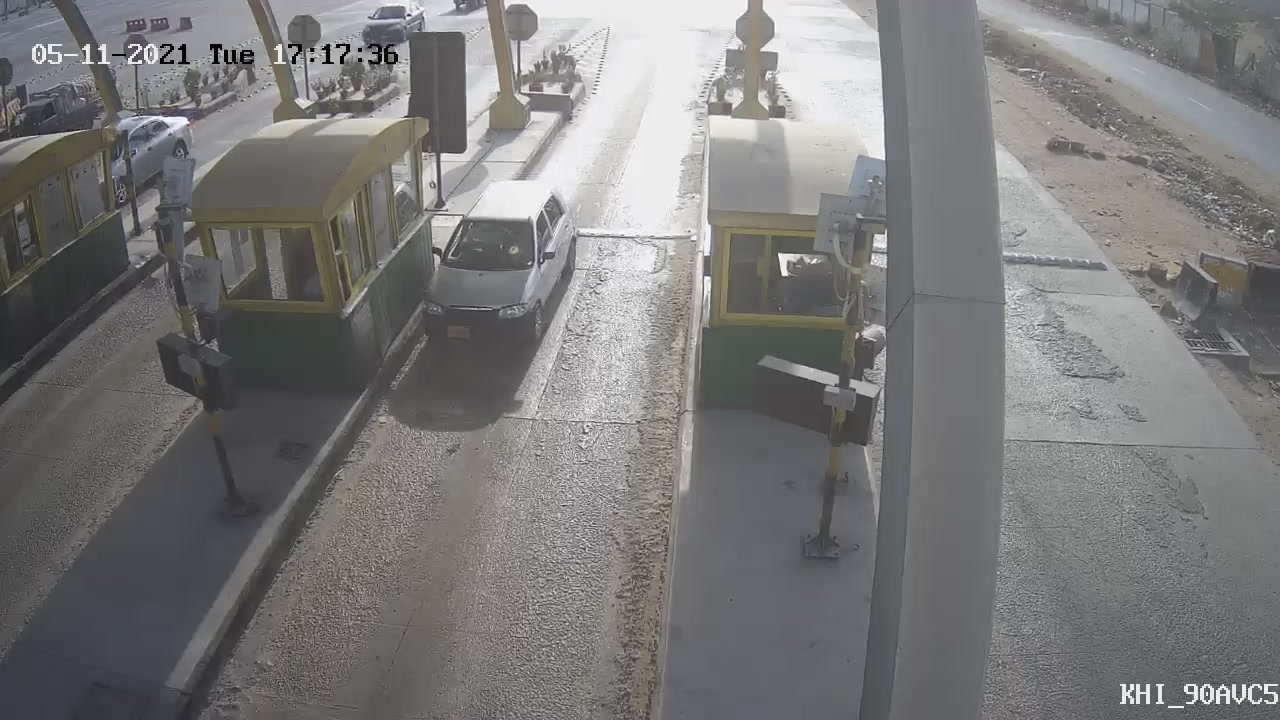F1: (394, 169, 604, 378)
